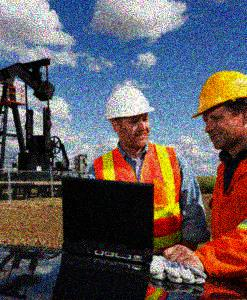helmet: (190, 69, 247, 149), (103, 85, 156, 146)
